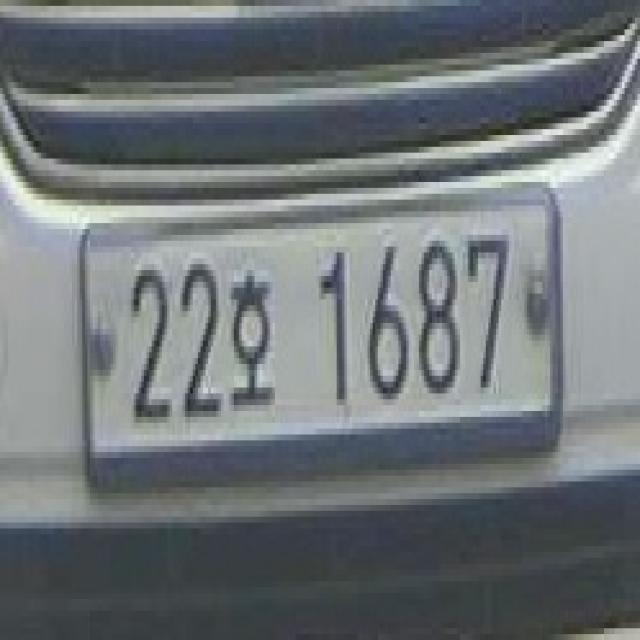1: (314, 242, 361, 413)
2: (122, 253, 176, 430), (173, 248, 226, 427)
6: (360, 231, 413, 412)
7: (464, 217, 519, 396)
8: (414, 224, 463, 398)
ho: (225, 251, 281, 416)
license_plate: (83, 195, 560, 463)
